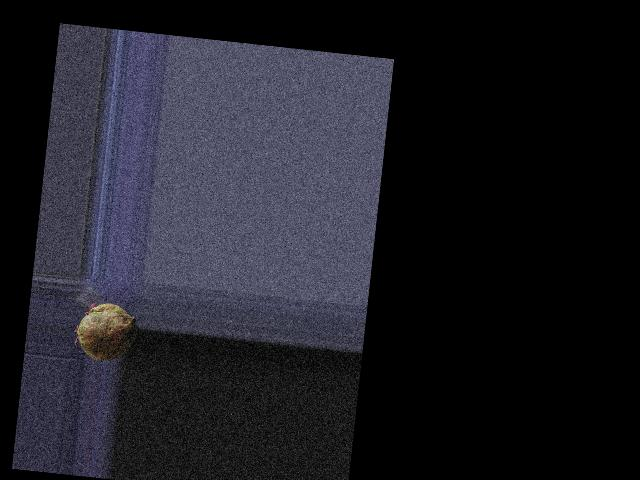beet: (72, 299, 139, 363)
